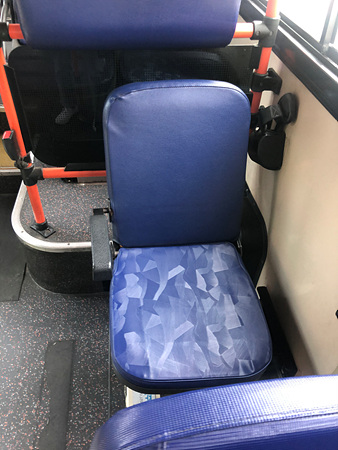seat: (102, 80, 273, 371)
